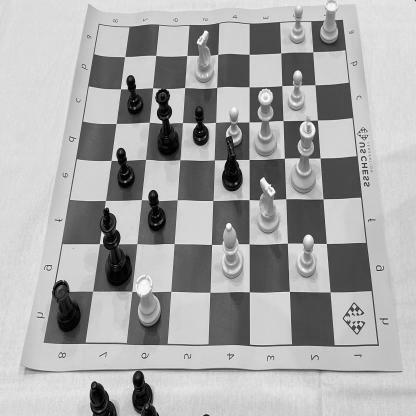black-king: (99, 203, 132, 288)
black-knight: (220, 136, 246, 193)
black-pawn: (145, 186, 167, 233), (189, 103, 211, 148), (115, 146, 136, 192), (126, 71, 144, 115)
black-queen: (154, 86, 179, 157)
black-rook: (51, 276, 82, 332)
white-bishop: (218, 217, 246, 281)
white-king: (289, 114, 320, 197)
white-knight: (256, 176, 280, 236), (194, 28, 216, 87)
white-pawn: (294, 233, 318, 279), (286, 68, 306, 112), (225, 104, 245, 146), (288, 4, 308, 45)
white-queen: (252, 86, 277, 158)
white-rook: (134, 272, 164, 328), (317, 0, 341, 47)
